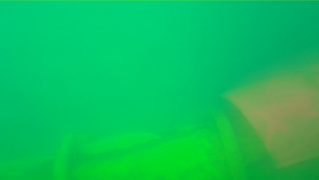leak: (216, 65, 319, 170)
pipe: (1, 108, 319, 180)
